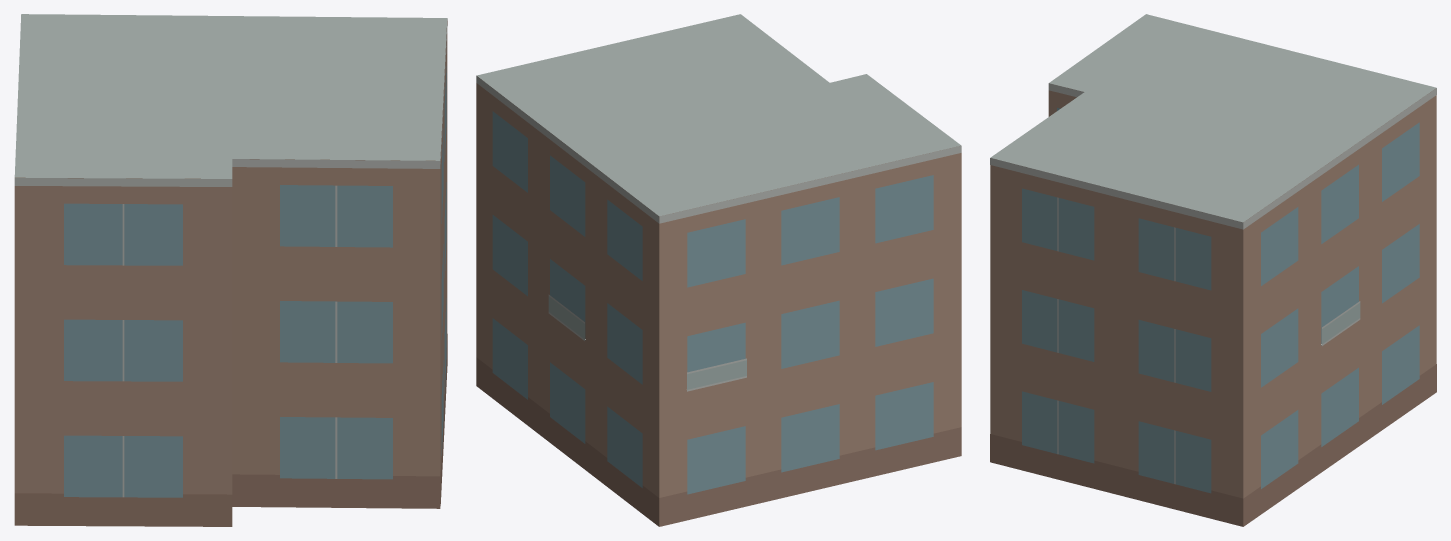
Rendered from survey-upis-32679223.glb.
The picture shows the model from 3 angles, left to right: view 1: azimuth 30°, elevation 25°; view 2: azimuth 150°, elevation 25°; view 3: azimuth 270°, elevation 25°; orthographic projection. The views are drawn at different scales.
Visible parts, largest first — view 1: survey-upis-32679223.tmp; view 2: survey-upis-32679223.tmp; view 3: survey-upis-32679223.tmp.
Boxes of the visible parts, x1,y1,x2,y2 form: survey-upis-32679223.tmp: (14, 14, 447, 526); survey-upis-32679223.tmp: (476, 14, 961, 526); survey-upis-32679223.tmp: (990, 14, 1436, 526).
Size of the model in its own units: 15.28 by 10.4 by 13.84.
